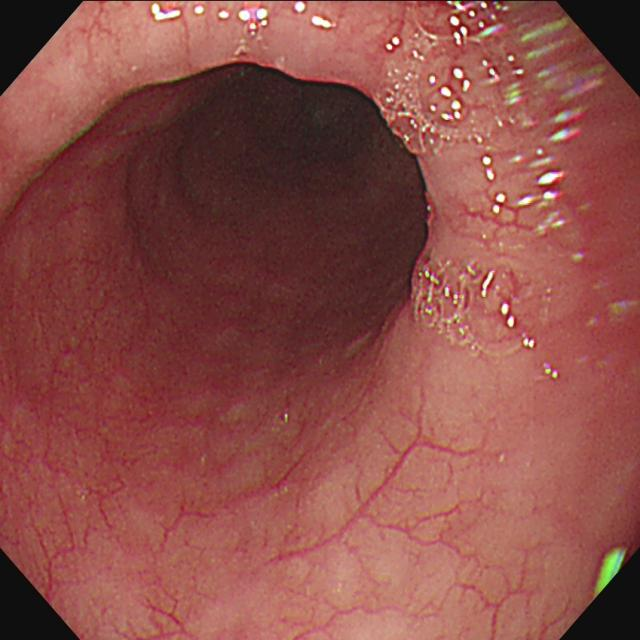T: (376, 41, 499, 158), (414, 261, 480, 356)
U: (592, 548, 627, 601), (239, 7, 269, 37), (538, 170, 566, 202), (152, 4, 182, 27), (483, 269, 497, 299), (501, 302, 516, 330), (482, 155, 497, 182), (492, 193, 508, 215)
